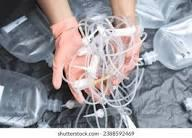Glove: (51, 17, 83, 88)
Iv_Bottle: (0, 69, 62, 126), (142, 15, 191, 69)
